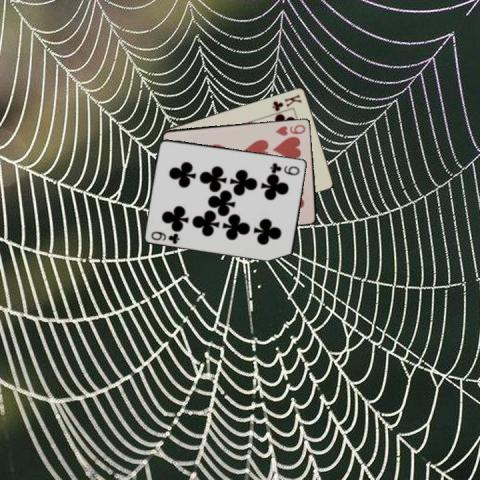9c: (148, 228, 181, 245), (267, 160, 301, 176)
9h: (273, 121, 307, 137)
Kc: (269, 91, 303, 112)
